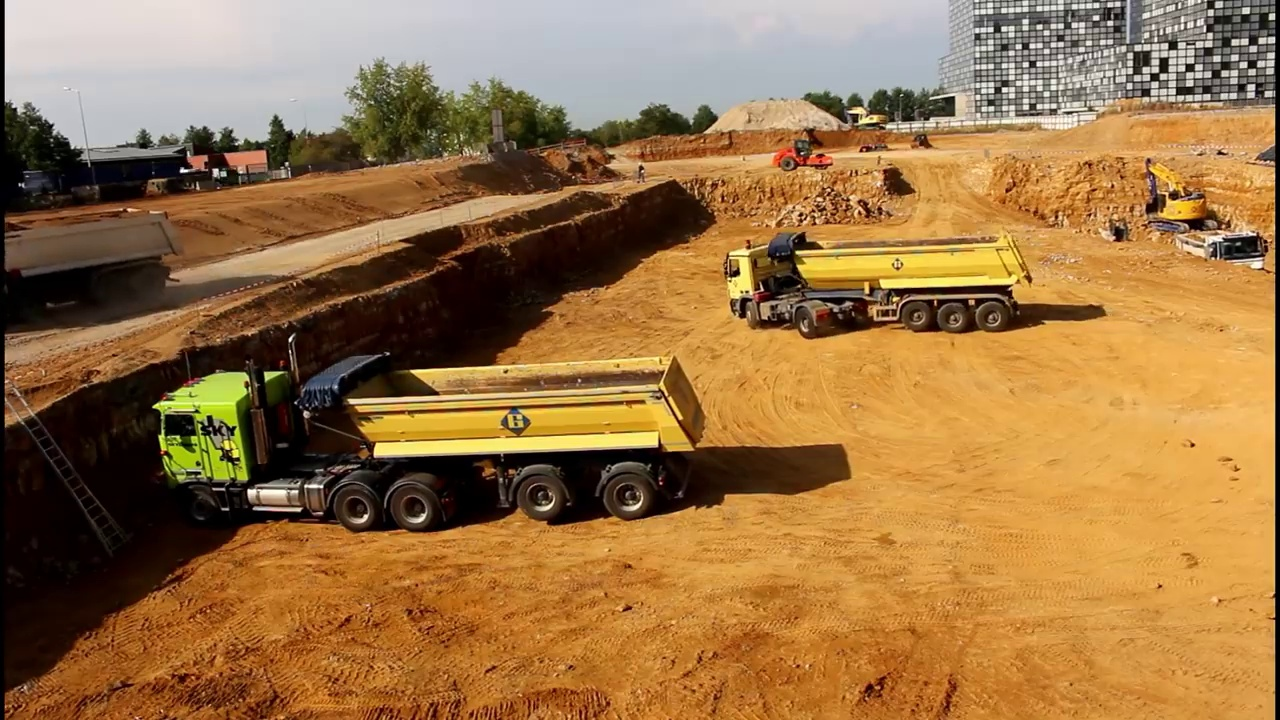compactor: (771, 138, 837, 174)
excavator: (1137, 155, 1223, 236), (840, 103, 886, 131)
truck: (146, 328, 710, 534), (722, 228, 1038, 343), (1, 205, 184, 314), (1174, 227, 1272, 289)
worker: (633, 159, 650, 189)
